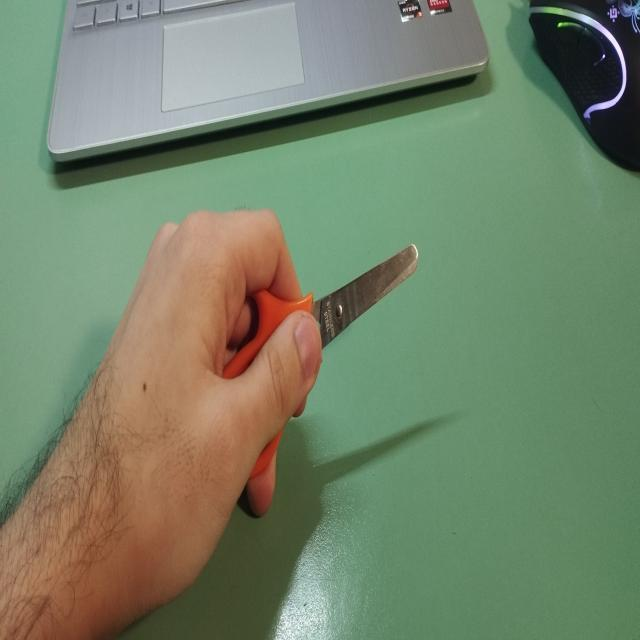tesoura: (211, 232, 422, 484)
